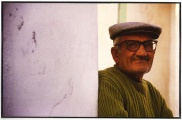male: (107, 26, 159, 79)
